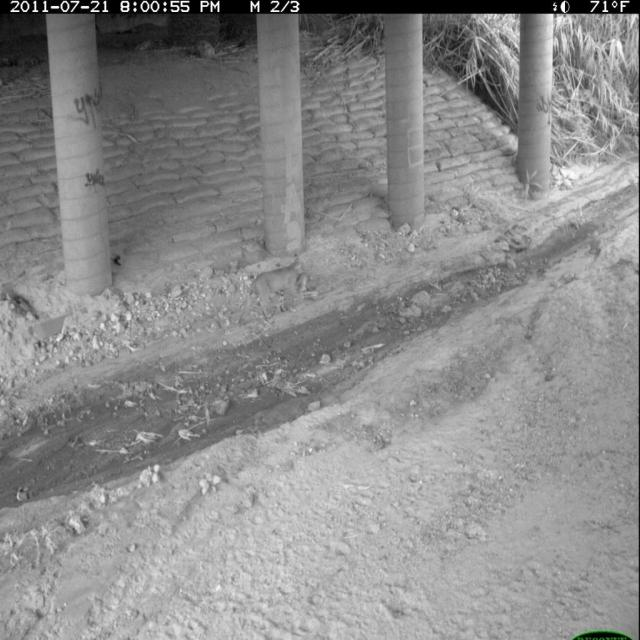bobcat: (239, 252, 310, 327)
rabbit: (294, 269, 312, 300)
